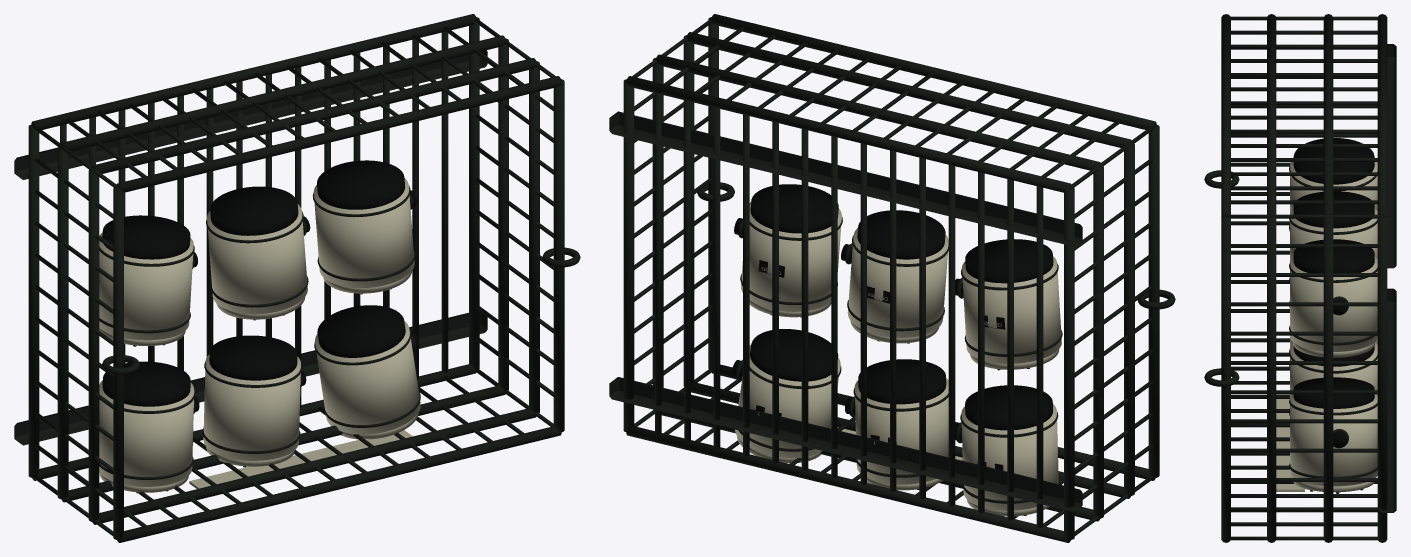
The model's file is 04_recovery_basket.obj.
3 renders of one model, left to right at view 1: azimuth 30°, elevation 25°; view 2: azimuth 150°, elevation 25°; view 3: azimuth 270°, elevation 25°, orthographic. The views are drawn at different scales.
Parts seen in each view (by area): view 1: 04_recovery_basket; view 2: 04_recovery_basket; view 3: 04_recovery_basket.
Boxes of the visible parts, x1,y1,x2,y2 form: 04_recovery_basket: (14, 14, 580, 542); 04_recovery_basket: (609, 14, 1175, 542); 04_recovery_basket: (1204, 14, 1396, 542).
Size of the model in its own units: 3.55 by 2.59 by 1.35.
